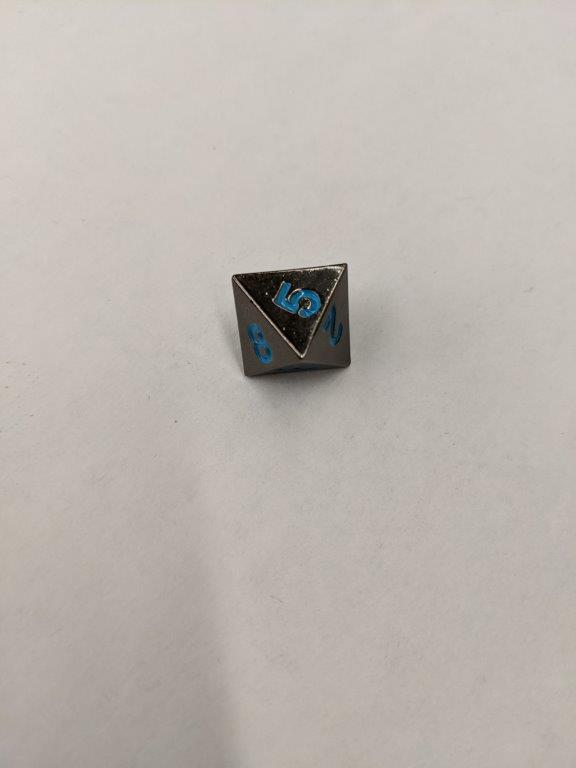d8-5: (230, 263, 355, 378)
